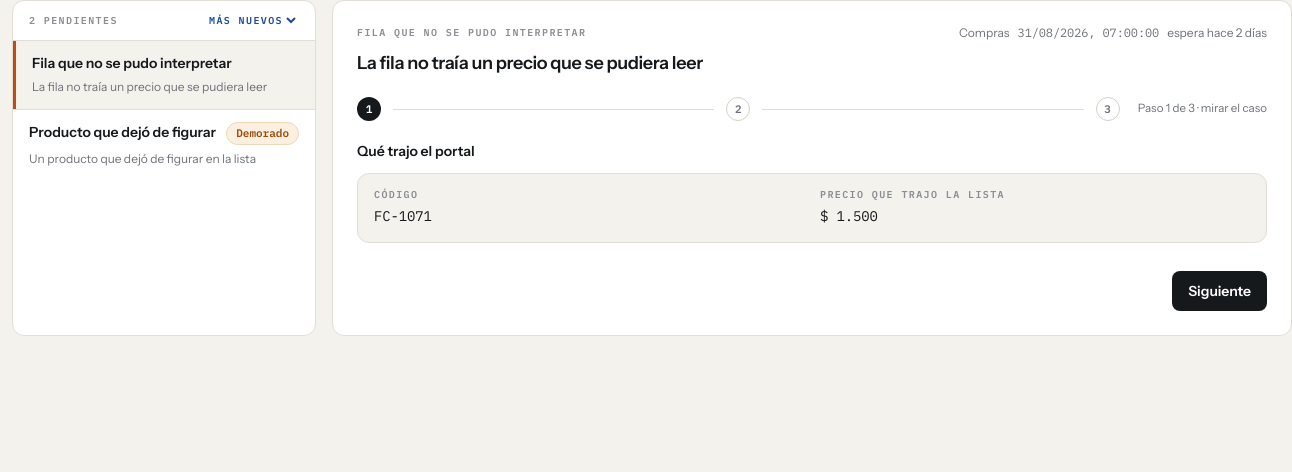
Test: la cola de pendientes › no arrastra al caso siguiente lo que se escribió en el anterior
Note: Un precio tipeado a mano sobre la fila ilegible, y no se confirma.
Click the button "Siguiente" at (1220, 291), box top-left (1172, 271), bottom-right (1267, 311)
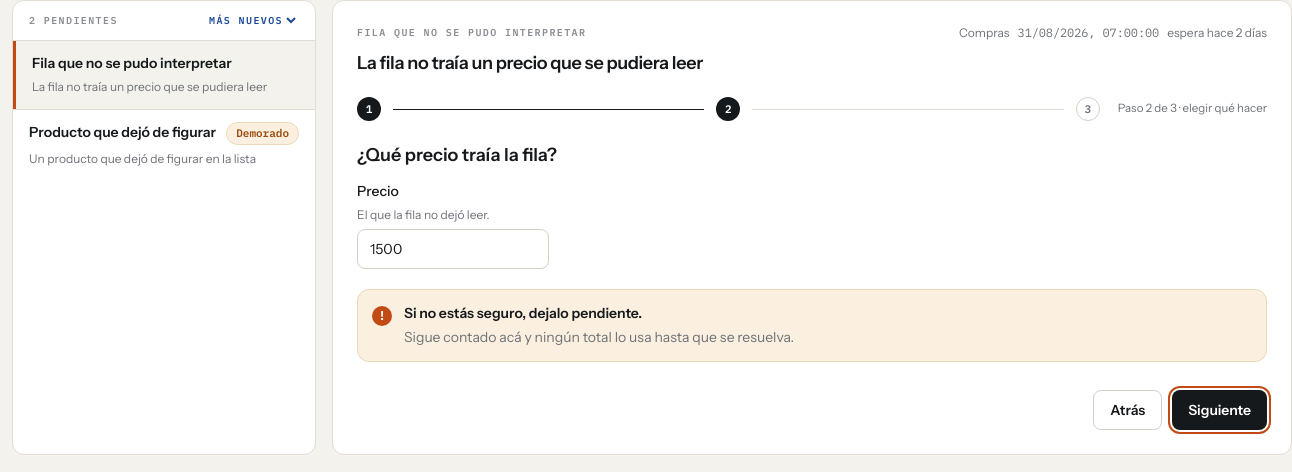
Replace the text in the number field labelled "Precio" with "999" at (453, 249), box top-left (357, 229), bottom-right (549, 269)
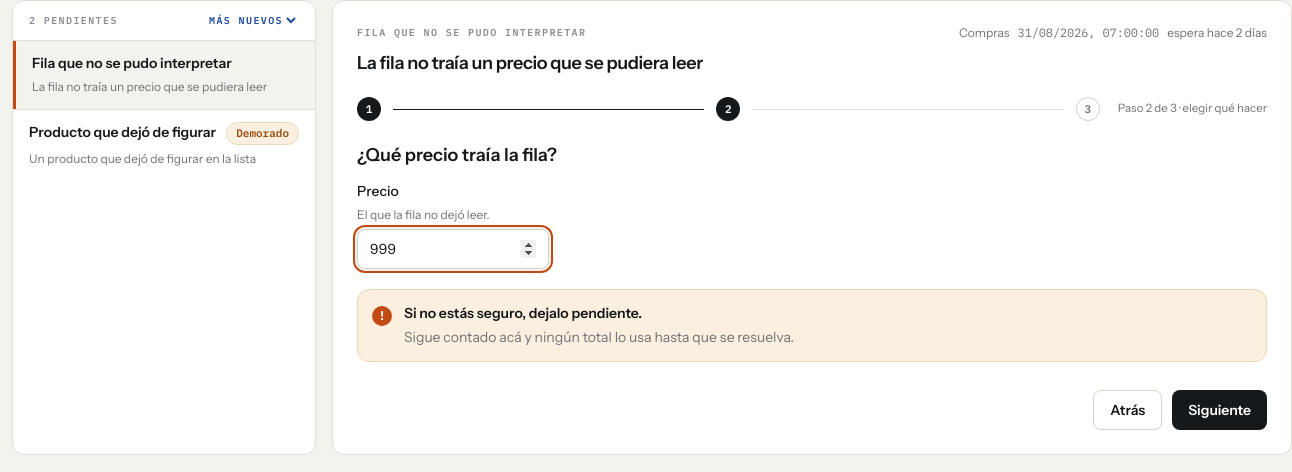
Click the button "Producto que dejó de figurar" at (123, 132), box top-left (13, 110), bottom-right (315, 180)
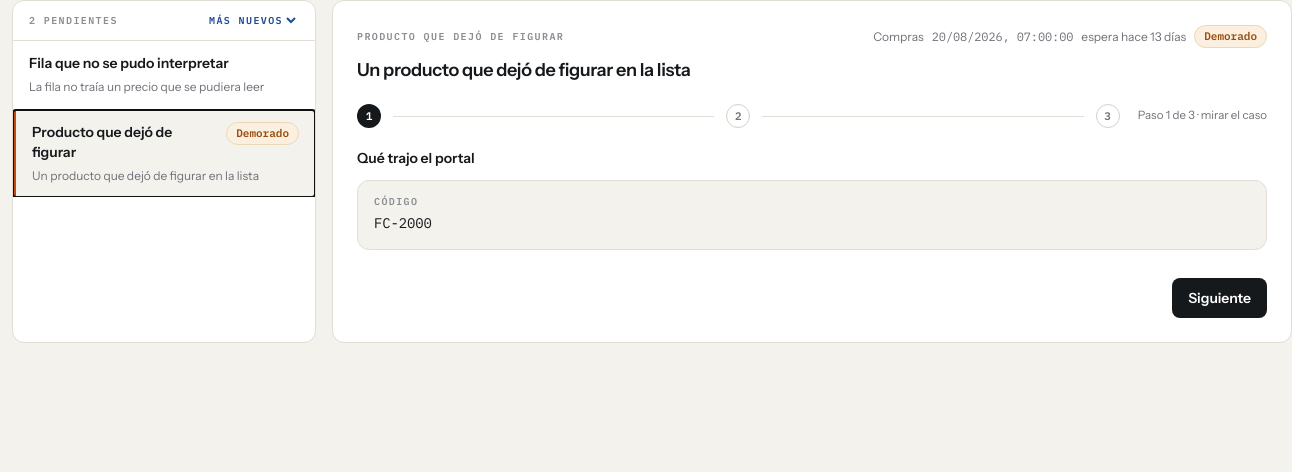
Click the button "Fila que no se pudo interpretar" at (164, 75), box top-left (13, 41), bottom-right (315, 108)
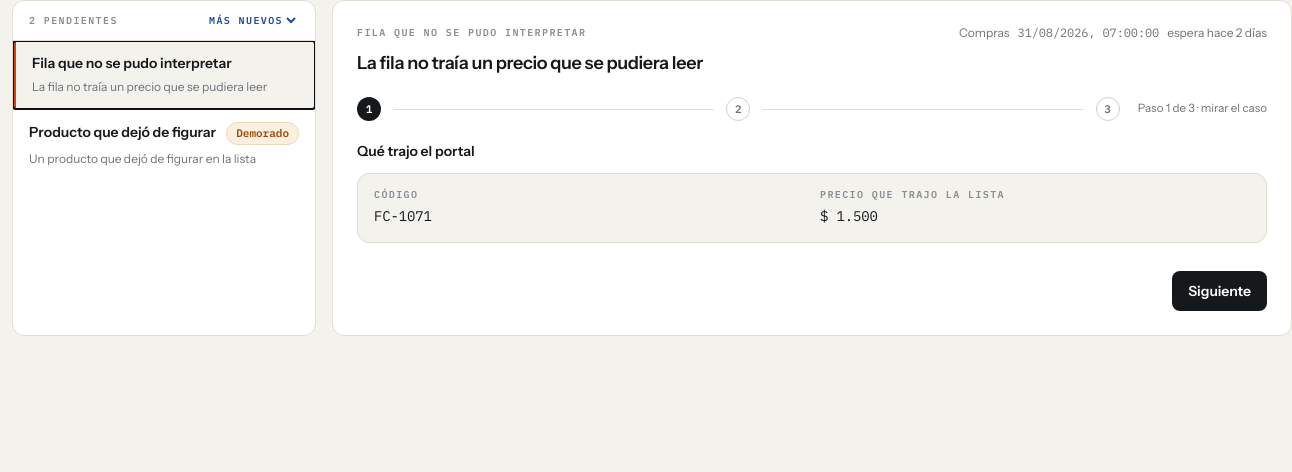
Click the button "Siguiente" at (1220, 291), box top-left (1172, 271), bottom-right (1267, 311)
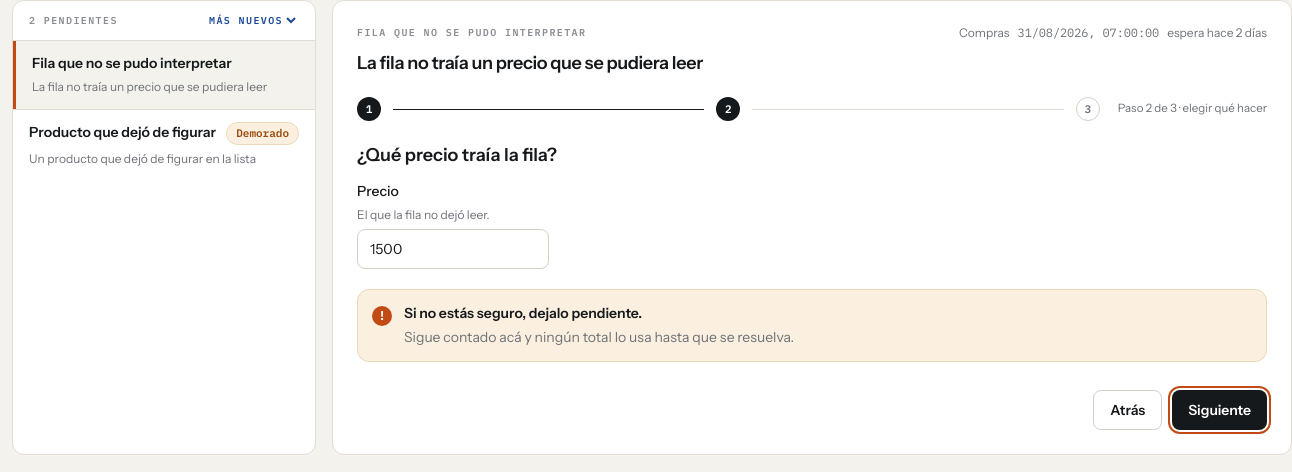
Check: the number field labelled "Precio" holds "1500", box top-left (357, 229), bottom-right (549, 269)
